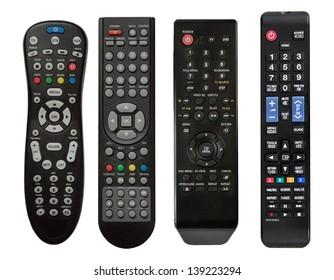Remote control: (172, 19, 239, 248), (22, 20, 89, 247), (97, 17, 157, 251), (260, 11, 312, 249)
